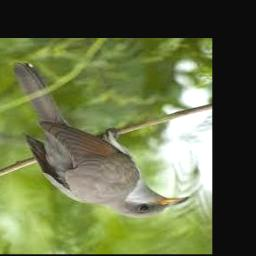Cuckoo: (12, 63, 189, 218)
